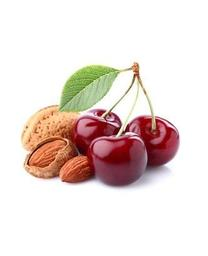cherry: (87, 132, 147, 187), (127, 115, 179, 169), (71, 109, 123, 153)
